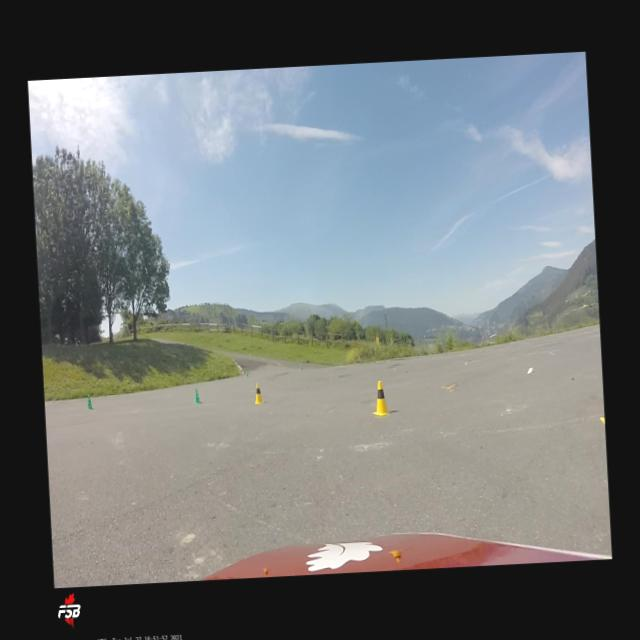unknown_cone: (86, 394, 94, 410), (194, 388, 202, 403)
yellow_cone: (370, 380, 390, 417), (254, 382, 265, 405)
